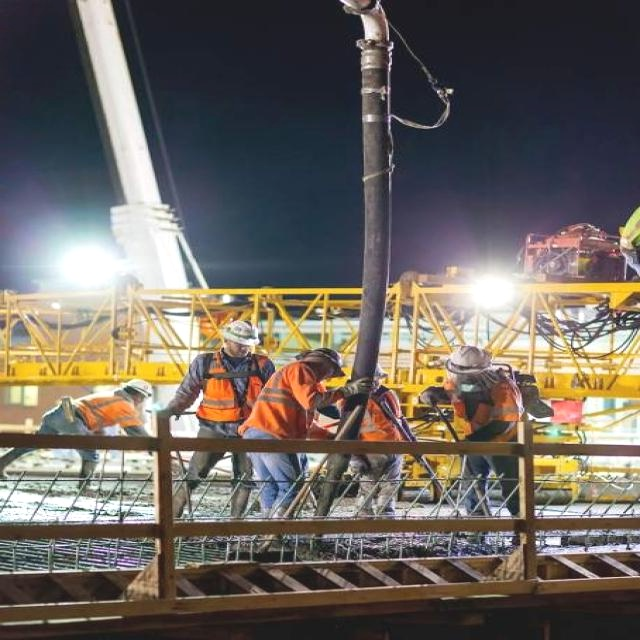Con_Chaleco: (247, 366, 327, 435), (195, 354, 268, 420), (78, 395, 139, 433)
Sin_Chaleco: (218, 318, 262, 349)
